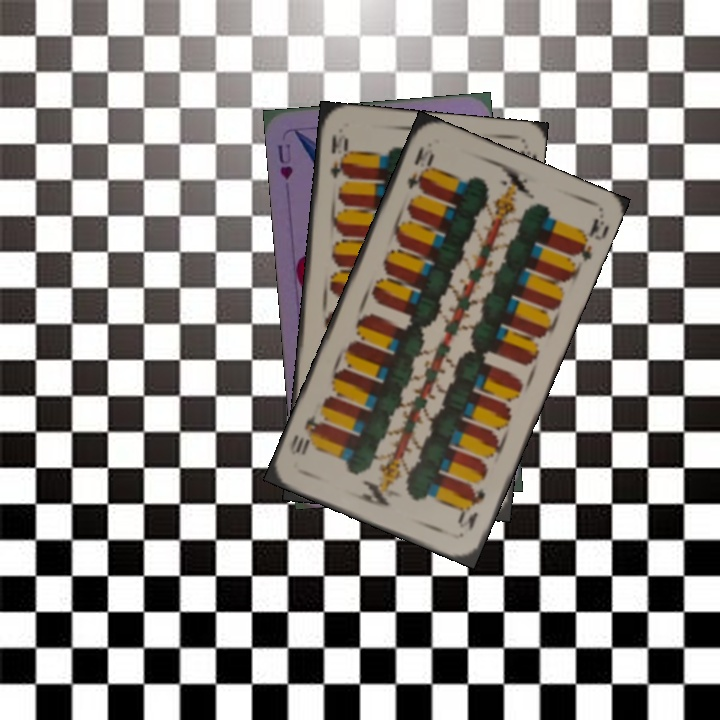E10: (403, 141, 437, 193), (454, 483, 488, 533), (326, 129, 351, 181)
HU: (273, 139, 296, 183)
